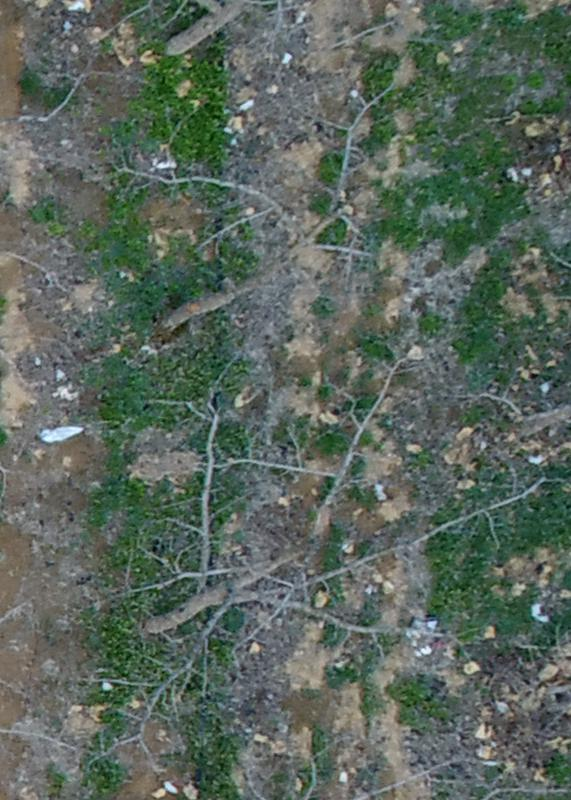apple: (114, 354, 532, 735), (125, 126, 400, 367)
